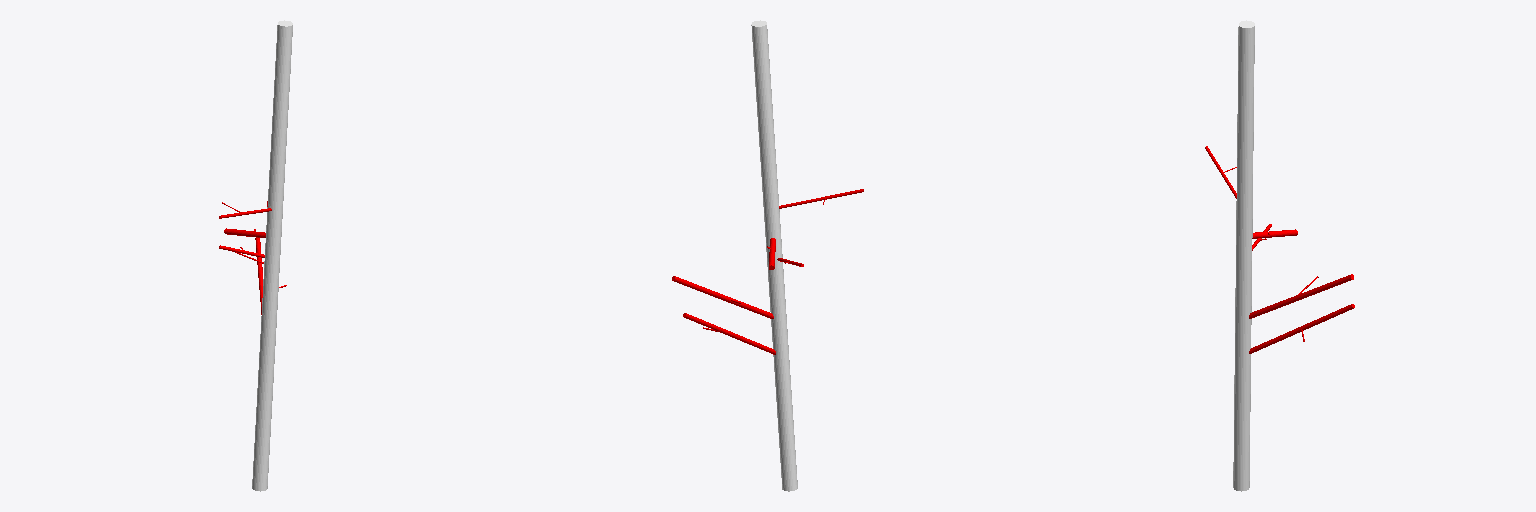
robot.urdf — tree_118.urdf:
<?xml version='1.0' encoding='UTF-8'?>
<robot name="tree_118.urdf">
  <link name="branch_0">
    <inertial>
      <origin xyz="0.0 0.0 0.0" rpy="0.0 -0.0 0.0"/>
      <mass value="0.1"/>
      <inertia ixx="0.001" ixy="0.0" ixz="0.0" iyy="0.001" iyz="0.0" izz="0.001"/>
    </inertial>
    <visual name="branch_0_visual">
      <geometry>
        <cylinder radius="0.14554181303025993" length="9.351023042839032"/>
      </geometry>
      <material name="branch_material"/>
      <origin xyz="0.3010230362708626 0.04705664269026516 4.6655737901076675" rpy="1.7139087393864999e-18 0.06521102268621236 0.15506741311295066"/>
    </visual>
    <collision name="branch_0_collision">
      <geometry>
        <cylinder radius="0.14554181303025993" length="9.351023042839032"/>
      </geometry>
      <origin xyz="0.3010230362708626 0.04705664269026516 4.6655737901076675" rpy="1.7139087393864999e-18 0.06521102268621236 0.15506741311295066"/>
    </collision>
  </link>
  <link name="branch_1">
    <inertial>
      <origin xyz="0.0 0.0 0.0" rpy="0.0 -0.0 0.0"/>
      <mass value="0.1"/>
      <inertia ixx="0.001" ixy="0.0" ixz="0.0" iyy="0.001" iyz="0.0" izz="0.001"/>
    </inertial>
    <visual name="branch_1_visual">
      <geometry>
        <cylinder radius="0.05033743974174875" length="2.606369682430163"/>
      </geometry>
      <material name="semantic_material"/>
      <origin xyz="0.0 0.0 0.0" rpy="0.0 -0.0 0.0"/>
    </visual>
    <collision name="branch_1_collision">
      <geometry>
        <cylinder radius="0.05033743974174875" length="2.606369682430163"/>
      </geometry>
      <origin xyz="0.0 0.0 0.0" rpy="0.0 -0.0 0.0"/>
    </collision>
  </link>
  <link name="branch_2">
    <inertial>
      <origin xyz="0.0 0.0 0.0" rpy="0.0 -0.0 0.0"/>
      <mass value="0.1"/>
      <inertia ixx="0.001" ixy="0.0" ixz="0.0" iyy="0.001" iyz="0.0" izz="0.001"/>
    </inertial>
    <visual name="branch_2_visual">
      <geometry>
        <cylinder radius="0.014152955303783864" length="0.6871183873294463"/>
      </geometry>
      <material name="semantic_material"/>
      <origin xyz="0.0 0.0 0.0" rpy="0.0 -0.0 0.0"/>
    </visual>
    <collision name="branch_2_collision">
      <geometry>
        <cylinder radius="0.014152955303783864" length="0.6871183873294463"/>
      </geometry>
      <origin xyz="0.0 0.0 0.0" rpy="0.0 -0.0 0.0"/>
    </collision>
  </link>
  <link name="branch_3">
    <inertial>
      <origin xyz="0.0 0.0 0.0" rpy="0.0 -0.0 0.0"/>
      <mass value="0.1"/>
      <inertia ixx="0.001" ixy="0.0" ixz="0.0" iyy="0.001" iyz="0.0" izz="0.001"/>
    </inertial>
    <visual name="branch_3_visual">
      <geometry>
        <cylinder radius="0.05525713144171242" length="1.055727914704666"/>
      </geometry>
      <material name="semantic_material"/>
      <origin xyz="0.0 0.0 0.0" rpy="0.0 -0.0 0.0"/>
    </visual>
    <collision name="branch_3_collision">
      <geometry>
        <cylinder radius="0.05525713144171242" length="1.055727914704666"/>
      </geometry>
      <origin xyz="0.0 0.0 0.0" rpy="0.0 -0.0 0.0"/>
    </collision>
  </link>
  <link name="branch_4">
    <inertial>
      <origin xyz="0.0 0.0 0.0" rpy="0.0 -0.0 0.0"/>
      <mass value="0.1"/>
      <inertia ixx="0.001" ixy="0.0" ixz="0.0" iyy="0.001" iyz="0.0" izz="0.001"/>
    </inertial>
    <visual name="branch_4_visual">
      <geometry>
        <cylinder radius="0.016219739525499138" length="0.11988929815161012"/>
      </geometry>
      <material name="semantic_material"/>
      <origin xyz="0.0 0.0 0.0" rpy="0.0 -0.0 0.0"/>
    </visual>
    <collision name="branch_4_collision">
      <geometry>
        <cylinder radius="0.016219739525499138" length="0.11988929815161012"/>
      </geometry>
      <origin xyz="0.0 0.0 0.0" rpy="0.0 -0.0 0.0"/>
    </collision>
  </link>
  <link name="branch_5">
    <inertial>
      <origin xyz="0.0 0.0 0.0" rpy="0.0 -0.0 0.0"/>
      <mass value="0.1"/>
      <inertia ixx="0.001" ixy="0.0" ixz="0.0" iyy="0.001" iyz="0.0" izz="0.001"/>
    </inertial>
    <visual name="branch_5_visual">
      <geometry>
        <cylinder radius="0.03263236535072319" length="1.0138310645429616"/>
      </geometry>
      <material name="semantic_material"/>
      <origin xyz="0.0 0.0 0.0" rpy="0.0 -0.0 0.0"/>
    </visual>
    <collision name="branch_5_collision">
      <geometry>
        <cylinder radius="0.03263236535072319" length="1.0138310645429616"/>
      </geometry>
      <origin xyz="0.0 0.0 0.0" rpy="0.0 -0.0 0.0"/>
    </collision>
  </link>
  <link name="branch_6">
    <inertial>
      <origin xyz="0.0 0.0 0.0" rpy="0.0 -0.0 0.0"/>
      <mass value="0.1"/>
      <inertia ixx="0.001" ixy="0.0" ixz="0.0" iyy="0.001" iyz="0.0" izz="0.001"/>
    </inertial>
    <visual name="branch_6_visual">
      <geometry>
        <cylinder radius="0.012856660978087816" length="0.14612767710829247"/>
      </geometry>
      <material name="semantic_material"/>
      <origin xyz="0.0 0.0 0.0" rpy="0.0 -0.0 0.0"/>
    </visual>
    <collision name="branch_6_collision">
      <geometry>
        <cylinder radius="0.012856660978087816" length="0.14612767710829247"/>
      </geometry>
      <origin xyz="0.0 0.0 0.0" rpy="0.0 -0.0 0.0"/>
    </collision>
  </link>
  <link name="branch_7">
    <inertial>
      <origin xyz="0.0 0.0 0.0" rpy="0.0 -0.0 0.0"/>
      <mass value="0.1"/>
      <inertia ixx="0.001" ixy="0.0" ixz="0.0" iyy="0.001" iyz="0.0" izz="0.001"/>
    </inertial>
    <visual name="branch_7_visual">
      <geometry>
        <cylinder radius="0.044743000134267914" length="2.5717751390604997"/>
      </geometry>
      <material name="semantic_material"/>
      <origin xyz="0.0 0.0 0.0" rpy="0.0 -0.0 0.0"/>
    </visual>
    <collision name="branch_7_collision">
      <geometry>
        <cylinder radius="0.044743000134267914" length="2.5717751390604997"/>
      </geometry>
      <origin xyz="0.0 0.0 0.0" rpy="0.0 -0.0 0.0"/>
    </collision>
  </link>
  <link name="branch_8">
    <inertial>
      <origin xyz="0.0 0.0 0.0" rpy="0.0 -0.0 0.0"/>
      <mass value="0.1"/>
      <inertia ixx="0.001" ixy="0.0" ixz="0.0" iyy="0.001" iyz="0.0" izz="0.001"/>
    </inertial>
    <visual name="branch_8_visual">
      <geometry>
        <cylinder radius="0.013906264307459608" length="0.544342054809489"/>
      </geometry>
      <material name="semantic_material"/>
      <origin xyz="0.0 0.0 0.0" rpy="0.0 -0.0 0.0"/>
    </visual>
    <collision name="branch_8_collision">
      <geometry>
        <cylinder radius="0.013906264307459608" length="0.544342054809489"/>
      </geometry>
      <origin xyz="0.0 0.0 0.0" rpy="0.0 -0.0 0.0"/>
    </collision>
  </link>
  <link name="branch_9">
    <inertial>
      <origin xyz="0.0 0.0 0.0" rpy="0.0 -0.0 0.0"/>
      <mass value="0.1"/>
      <inertia ixx="0.001" ixy="0.0" ixz="0.0" iyy="0.001" iyz="0.0" izz="0.001"/>
    </inertial>
    <visual name="branch_9_visual">
      <geometry>
        <cylinder radius="0.02982253843939504" length="1.7730330358790158"/>
      </geometry>
      <material name="semantic_material"/>
      <origin xyz="0.0 0.0 0.0" rpy="0.0 -0.0 0.0"/>
    </visual>
    <collision name="branch_9_collision">
      <geometry>
        <cylinder radius="0.02982253843939504" length="1.7730330358790158"/>
      </geometry>
      <origin xyz="0.0 0.0 0.0" rpy="0.0 -0.0 0.0"/>
    </collision>
  </link>
  <link name="branch_10">
    <inertial>
      <origin xyz="0.0 0.0 0.0" rpy="0.0 -0.0 0.0"/>
      <mass value="0.1"/>
      <inertia ixx="0.001" ixy="0.0" ixz="0.0" iyy="0.001" iyz="0.0" izz="0.001"/>
    </inertial>
    <visual name="branch_10_visual">
      <geometry>
        <cylinder radius="0.01" length="0.4855790423521824"/>
      </geometry>
      <material name="semantic_material"/>
      <origin xyz="0.0 0.0 0.0" rpy="0.0 -0.0 0.0"/>
    </visual>
    <collision name="branch_10_collision">
      <geometry>
        <cylinder radius="0.01" length="0.4855790423521824"/>
      </geometry>
      <origin xyz="0.0 0.0 0.0" rpy="0.0 -0.0 0.0"/>
    </collision>
  </link>
  <joint name="joint_0_1" type="fixed">
    <parent link="branch_0"/>
    <child link="branch_1"/>
    <axis xyz="1. 0. 0."/>
    <origin xyz="0.7809381197364621 1.0000317553016154 4.0713992769222935" rpy="0.10044351756318928 1.0268230882913518 1.1613560514768781"/>
  </joint>
  <joint name="joint_0_3" type="fixed">
    <parent link="branch_0"/>
    <child link="branch_3"/>
    <axis xyz="1. 0. 0."/>
    <origin xyz="0.07954310032417157 0.5111610870510597 4.982558538355308" rpy="2.742277796383809 1.4114290237945821 -1.4821921337919737"/>
  </joint>
  <joint name="joint_0_5" type="fixed">
    <parent link="branch_0"/>
    <child link="branch_5"/>
    <axis xyz="1. 0. 0."/>
    <origin xyz="-0.13423484782988102 0.2820311284771321 4.742580948847808" rpy="0.16327599967430026 1.3273859994955144 2.8112229769314214"/>
  </joint>
  <joint name="joint_0_7" type="fixed">
    <parent link="branch_0"/>
    <child link="branch_7"/>
    <axis xyz="1. 0. 0."/>
    <origin xyz="0.6366557250966415 1.0054531868914482 3.3688802830004656" rpy="0.10193497293629579 0.9979346274461743 1.2490913239853423"/>
  </joint>
  <joint name="joint_0_9" type="fixed">
    <parent link="branch_0"/>
    <child link="branch_9"/>
    <axis xyz="1. 0. 0."/>
    <origin xyz="-0.42317716774088404 -0.2812656328502818 5.844486014200625" rpy="-0.06001453583983376 1.3014782579718913 -2.797471574764158"/>
  </joint>
  <joint name="joint_1_2" type="fixed">
    <parent link="branch_0"/>
    <child link="branch_2"/>
    <axis xyz="1. 0. 0."/>
    <origin xyz="0.4917482058860017 1.1377159250695423 4.12422622531426" rpy="1.212597429067213 0.4506647170929138 -2.4636293907735003"/>
  </joint>
  <joint name="joint_3_4" type="fixed">
    <parent link="branch_0"/>
    <child link="branch_4"/>
    <axis xyz="1. 0. 0."/>
    <origin xyz="0.15407923674828522 0.47748425243598497 5.02568368178922" rpy="-0.9753338590359424 -0.10759328777154573 -1.136981810952122"/>
  </joint>
  <joint name="joint_5_6" type="fixed">
    <parent link="branch_0"/>
    <child link="branch_6"/>
    <axis xyz="1. 0. 0."/>
    <origin xyz="-0.15836232168167555 0.3707429892139174 4.770470030600281" rpy="-1.314544370068195 0.15390801079474903 -0.10560412487482228"/>
  </joint>
  <joint name="joint_7_8" type="fixed">
    <parent link="branch_0"/>
    <child link="branch_8"/>
    <axis xyz="1. 0. 0."/>
    <origin xyz="0.9364848755888472 1.0878643958386538 3.415842285268936" rpy="-1.5515104125323012 0.6308205762032959 -1.478040871350224"/>
  </joint>
  <joint name="joint_9_10" type="fixed">
    <parent link="branch_0"/>
    <child link="branch_10"/>
    <axis xyz="1. 0. 0."/>
    <origin xyz="-0.6571764511123275 -0.12307604065635121 5.933673012008736" rpy="-1.3621876026861723 0.25410448568024263 0.4819429187887683"/>
  </joint>
  <material name="branch_material">
    <color rgba="1. 1. 1. 1."/>
  </material>
  <material name="semantic_material">
    <color rgba="1. 0. 0. 1."/>
  </material>
</robot>

--- Facts derived from the render (not from the file) ---
Views: 3 orthographic renders of the robot side by side, from view 1: azimuth 30°, elevation 25°; view 2: azimuth 150°, elevation 25°; view 3: azimuth 270°, elevation 25°.
Robot: tree_118.urdf — 11 links, 10 joints (10 fixed); root link branch_0; default pose: all joints at 0.
Visible links, largest first — view 1: branch_0; view 2: branch_0, branch_1; view 3: branch_0, branch_1, branch_7.
Link boxes in pixels (x1,y1,x2,y2): branch_0: (252,20,292,491); branch_0: (751,20,797,491); branch_1: (672,276,773,318); branch_0: (1233,20,1254,491); branch_1: (1249,274,1353,318); branch_7: (1249,304,1354,353).
Size in the robot's own frame: 2.61 by 2.66 by 9.35 metres.
Geometry: primitives only (box / cylinder / sphere), no mesh files.
